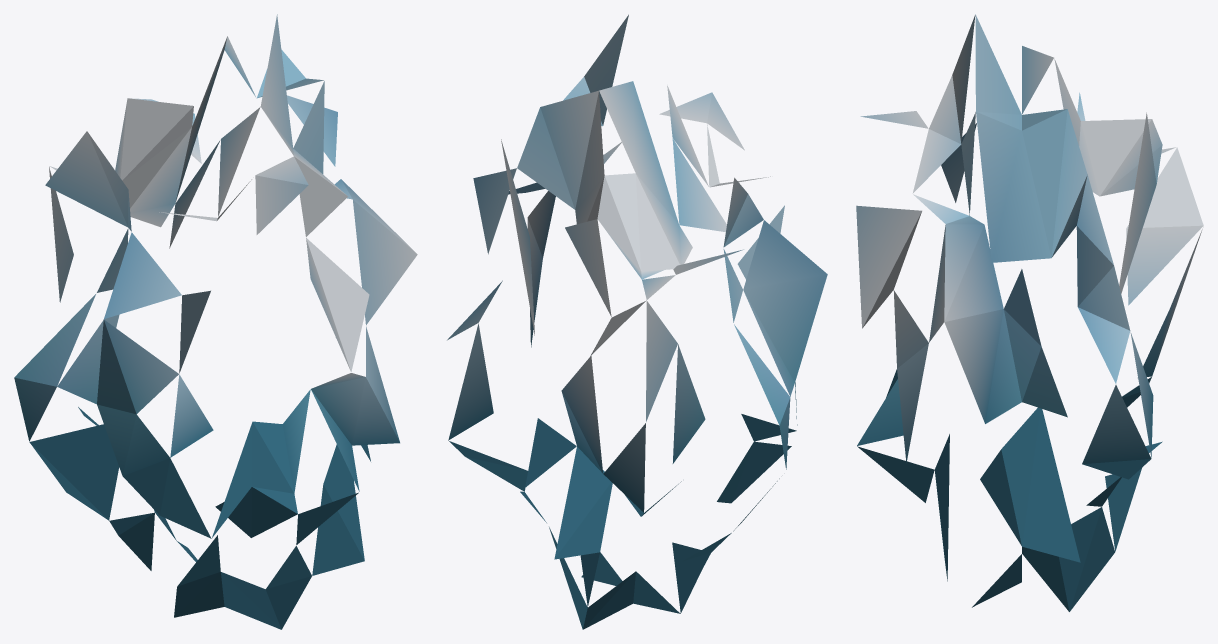
Rendered from frost_iceberg_b_lod1.glb.
3 renders of one model, left to right at view 1: azimuth 30°, elevation 25°; view 2: azimuth 150°, elevation 25°; view 3: azimuth 270°, elevation 25°, orthographic. The views are drawn at different scales.
Parts seen in each view (by area): view 1: geometry_0; view 2: geometry_0; view 3: geometry_0.
Part boxes in pixels (box(x1,y1,x2,y2)): geometry_0: box(14, 14, 417, 629); geometry_0: box(447, 14, 827, 629); geometry_0: box(856, 14, 1203, 611).
Size of the model in its own units: 34.49 by 59.59 by 31.38.
